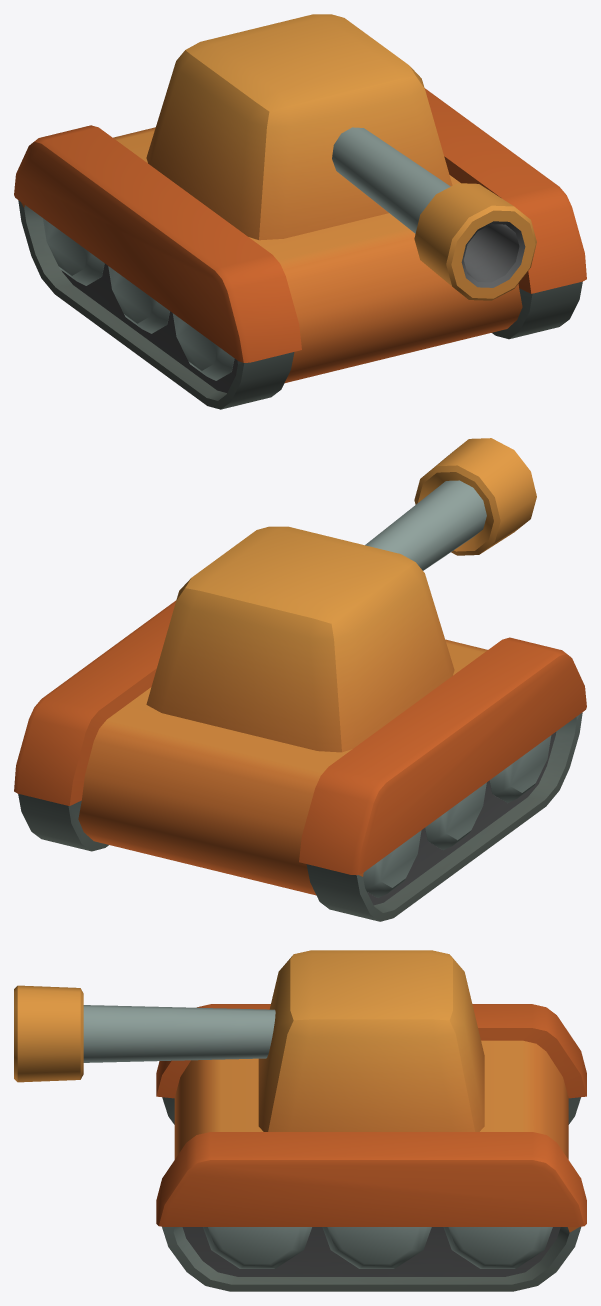
Rendered from ArmTank.obj.
The picture shows the model from 3 angles, top to bottom: view 1: azimuth 30°, elevation 25°; view 2: azimuth 150°, elevation 25°; view 3: azimuth 270°, elevation 25°; orthographic projection. The views are drawn at different scales.
Parts seen in each view (by area): view 1: Base.001, Barrel.001; view 2: Base.001, Barrel.001; view 3: Base.001, Barrel.001.
Part boxes in pixels (x1,y1,x2,y2): Base.001: (14, 88, 586, 409); Barrel.001: (146, 14, 536, 300); Base.001: (14, 600, 586, 921); Barrel.001: (146, 438, 536, 752); Base.001: (156, 1004, 586, 1291); Barrel.001: (14, 950, 484, 1131).
Bounding box in the file's own units: 0.4717 × 0.3283 × 0.7225.
